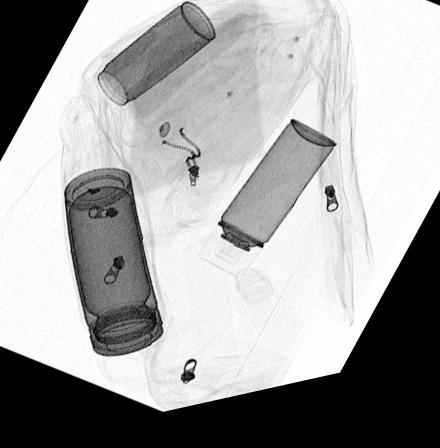Sprayer: (195, 129, 340, 288)
